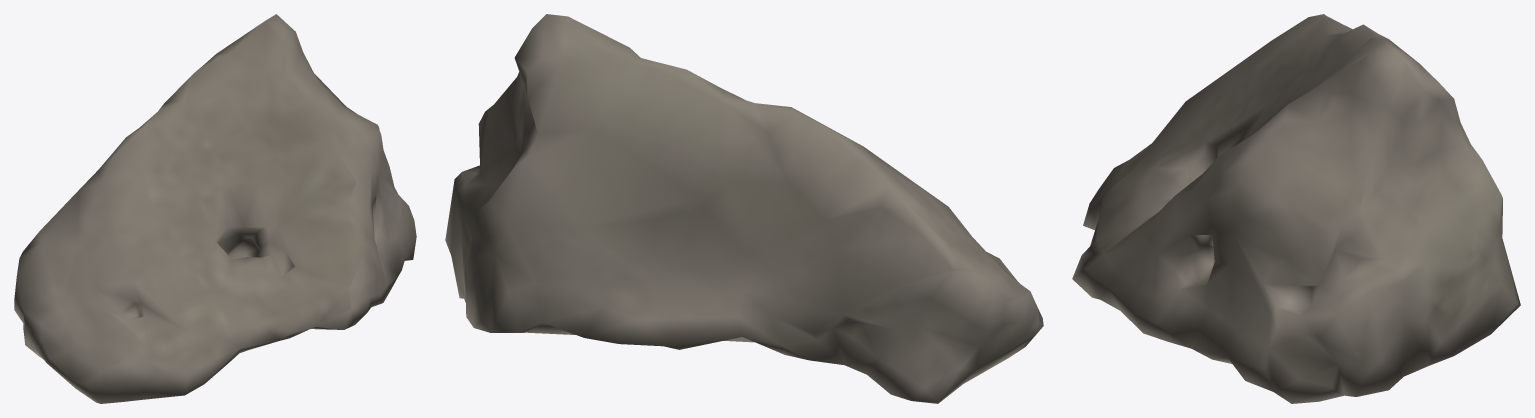
File: ph_moonrock_7.glb
3 renders of one model, left to right at view 1: azimuth 30°, elevation 25°; view 2: azimuth 150°, elevation 25°; view 3: azimuth 270°, elevation 25°, orthographic. The views are drawn at different scales.
Parts seen in each view (by area): view 1: ph_moonrock_7_lod1; view 2: ph_moonrock_7_lod1; view 3: ph_moonrock_7_lod1.
Part boxes in pixels (x1,y1,x2,y2): ph_moonrock_7_lod1: (14,14,416,403); ph_moonrock_7_lod1: (445,14,1043,403); ph_moonrock_7_lod1: (1072,14,1520,403).
Size of the model in its own units: 0.0968 by 0.0605 by 0.074.
1 material, 1 textured.
